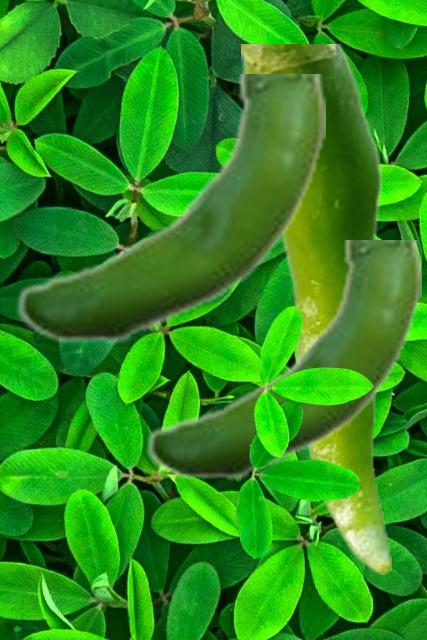green_chili: (15, 74, 324, 345), (241, 44, 390, 573), (145, 240, 420, 481)
